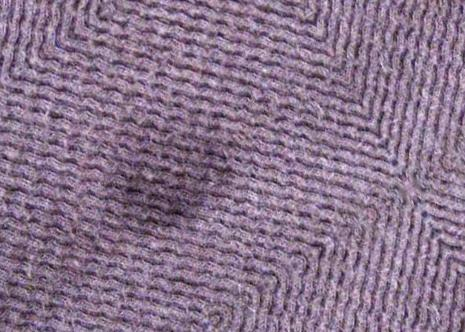stain: (116, 130, 240, 236)
